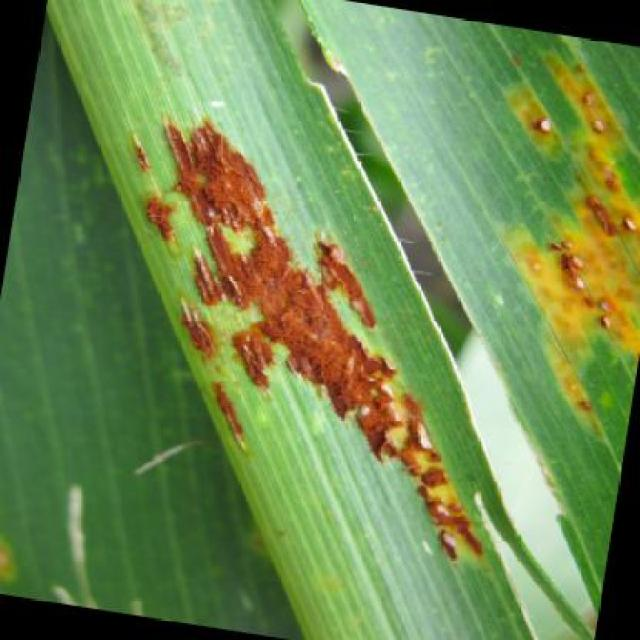Corn_Rust: (80, 42, 598, 603)
